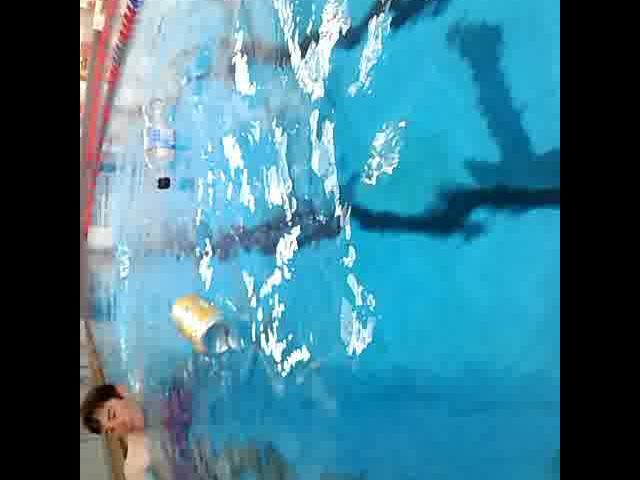Bottle: (146, 90, 187, 190)
Can: (165, 276, 243, 359)
